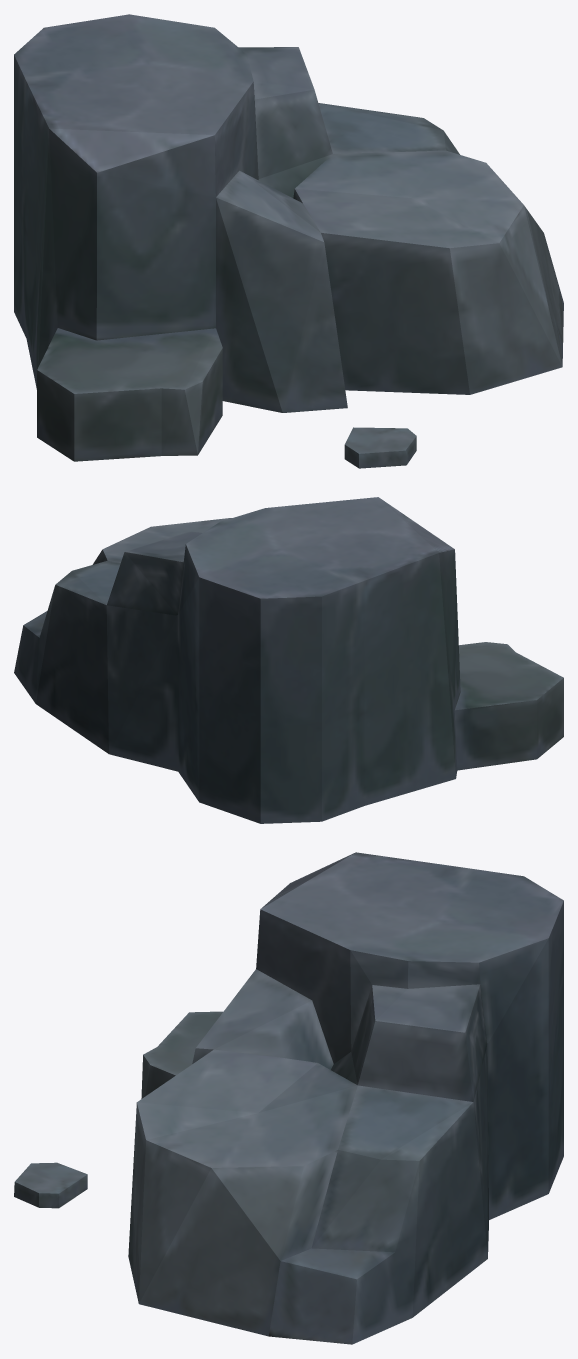
Rendered from yanshi_04.FBX.
3 renders of one model, top to bottom at view 1: azimuth 30°, elevation 25°; view 2: azimuth 150°, elevation 25°; view 3: azimuth 270°, elevation 25°, orthographic. The views are drawn at different scales.
Visible parts, largest first — view 1: yanshi_04; view 2: yanshi_04; view 3: yanshi_04.
Boxes of the visible parts, <box> form: yanshi_04: <box>14,14,563,468</box>; yanshi_04: <box>14,497,563,823</box>; yanshi_04: <box>14,852,563,1344</box>.
Size of the model in its own units: 441 by 198 by 385.
